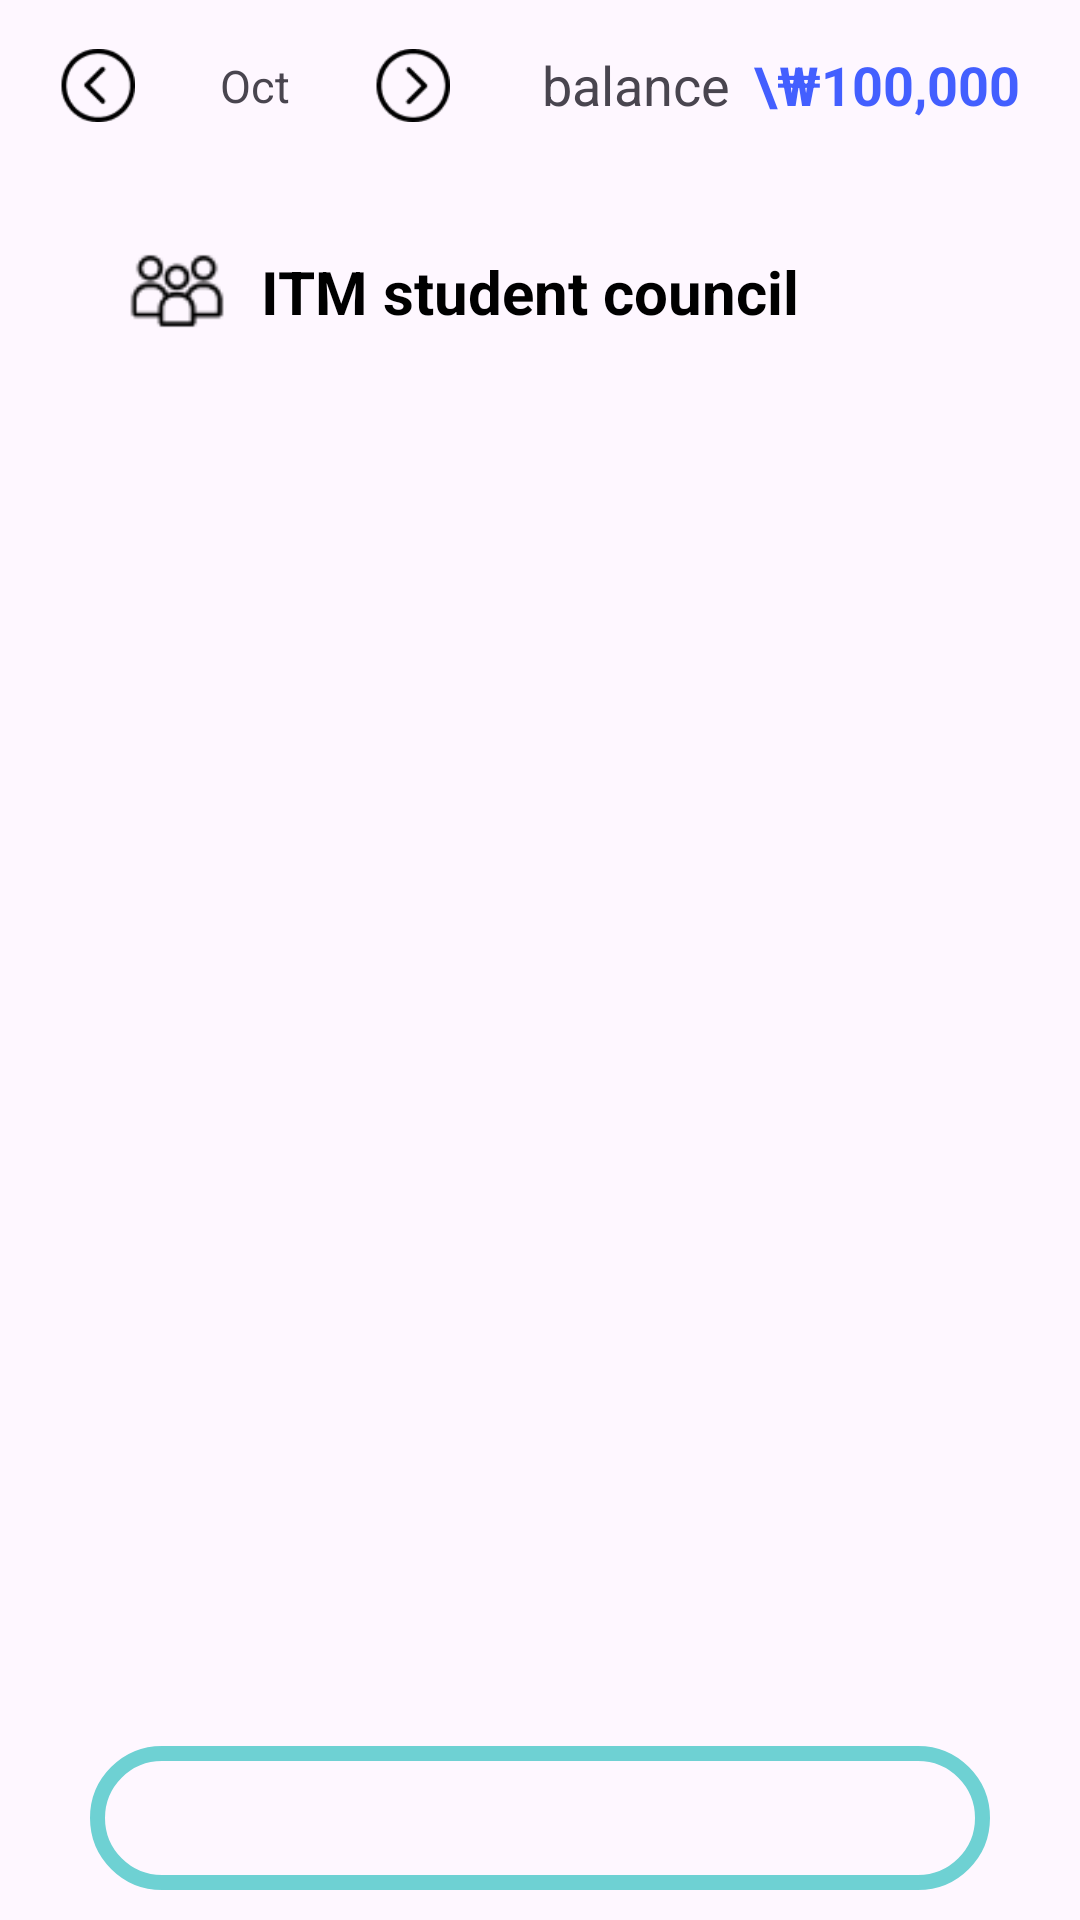

Screen size 1080×1920. Icon name, then its box in pixels as (x1, y1, x2, y2):
arrow left: (61, 49, 135, 122)
arrow right: (376, 49, 450, 122)
